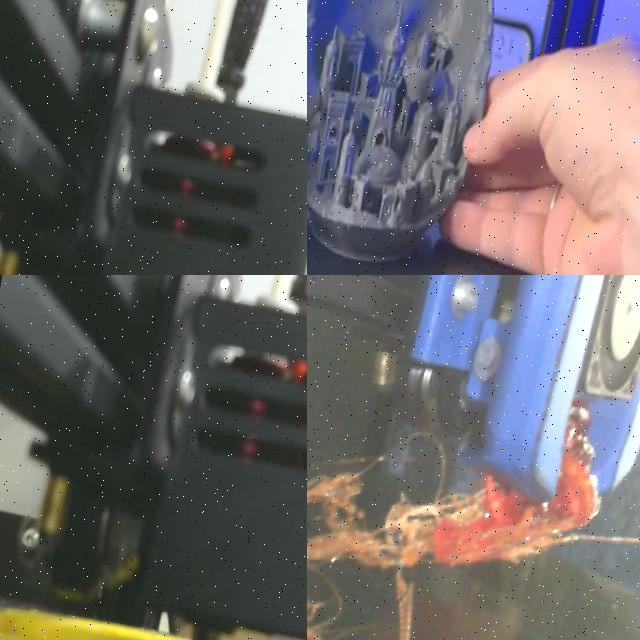spaghetti: (307, 402, 600, 640), (307, 565, 376, 640), (395, 572, 414, 640)
